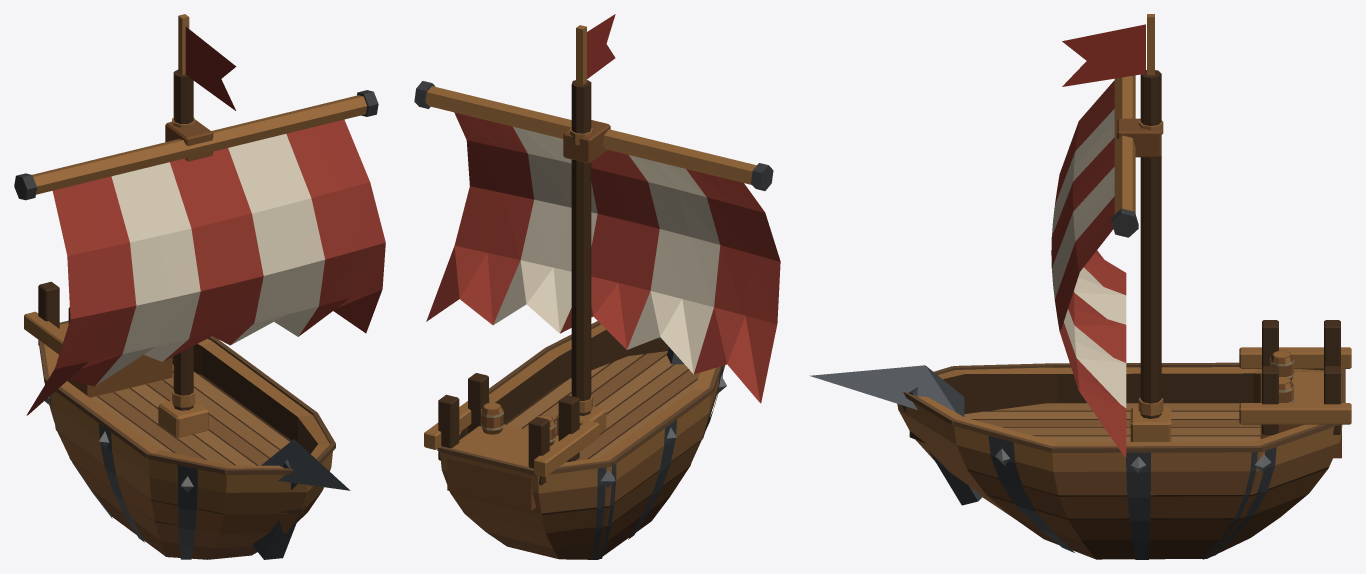
File: barbarian_ship.glb
3 views of the same model, side by side, from view 1: azimuth 30°, elevation 25°; view 2: azimuth 150°, elevation 25°; view 3: azimuth 270°, elevation 25° (orthographic). The views are drawn at different scales.
Parts seen in each view (by area): view 1: barbarian_ship; view 2: barbarian_ship; view 3: barbarian_ship.
Part boxes in pixels (x1=…): barbarian_ship: x1=14, y1=14, x2=385, y2=559; barbarian_ship: x1=414, y1=14, x2=780, y2=559; barbarian_ship: x1=809, y1=14, x2=1351, y2=559.
Size of the model in its own units: 0.3424 by 0.4752 by 0.448.
